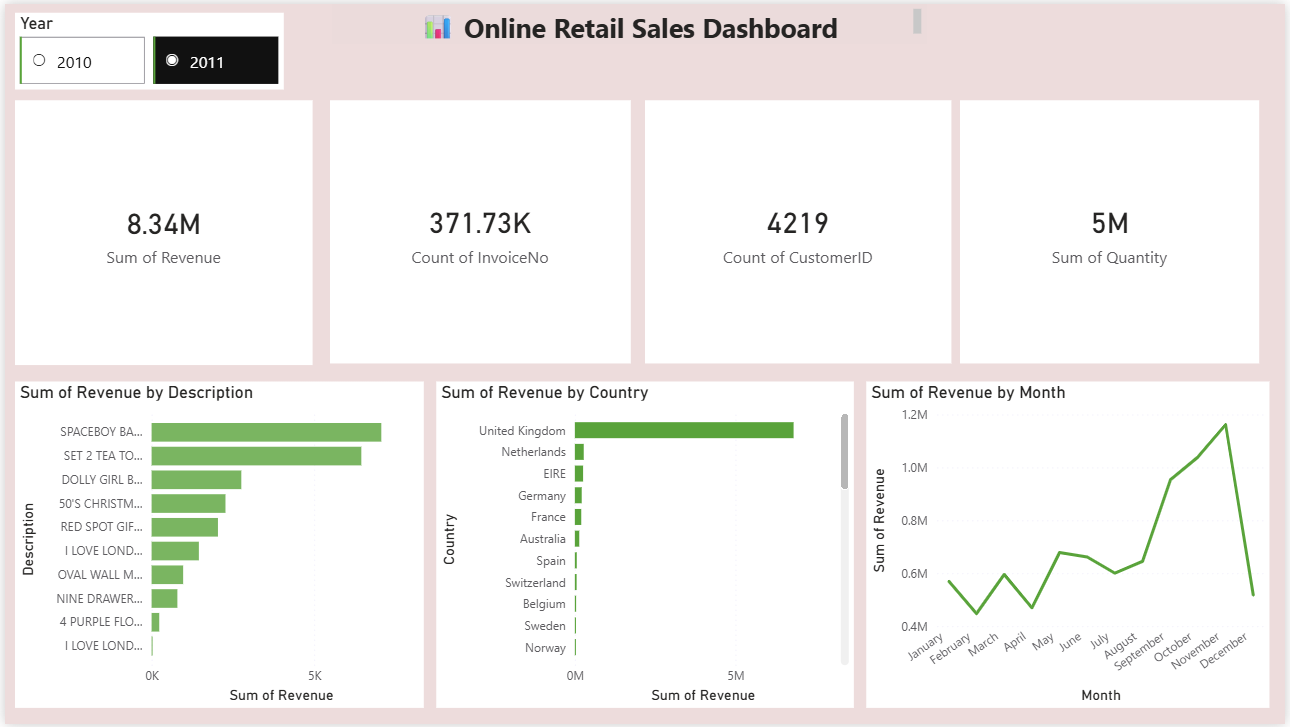

The page's visual inventory and layout, read from the dashboard file:
{"tool":"powerbi","page":{"name":"Page 1","canvas":[1280,720],"ordinal":0},"visuals":[{"type":"lineChart","fields":{"Y":["Sum(online_retail.Revenue)"],"Category":["online_retail.InvoiceDate.Variation.Date Hierarchy.Year","online_retail.InvoiceDate.Variation.Date Hierarchy.Month"]},"box":[861.1,377.8,403.3,326.7],"z":0},{"type":"card","fields":{"Values":["Sum(online_retail.Revenue)"]},"box":[9.6,96.1,297.8,264.8],"z":1000},{"type":"card","fields":{"Values":["CountNonNull(online_retail.InvoiceNo)"]},"box":[325.2,96.1,300.5,263.5],"z":2000},{"type":"card","fields":{"Values":["Count(online_retail.CustomerID)"]},"box":[639.5,96.1,306,263.5],"z":3000},{"type":"card","fields":{"Values":["Sum(online_retail.Quantity)"]},"box":[955.1,96.1,299.1,263.5],"z":4000},{"type":"barChart","fields":{"Category":["online_retail.Description"],"Y":["Sum(online_retail.Revenue)"]},"box":[10,377.8,408.9,326.7],"z":5000},{"type":"barChart","fields":{"Category":["online_retail.Country"],"Y":["Sum(online_retail.Revenue)"]},"box":[431.1,377.8,417.8,326.7],"z":6000},{"type":"textbox","box":[328,0,594.2,39.8],"z":7000},{"type":"advancedSlicerVisual","fields":{"Values":["online_retail.InvoiceDate.Variation.Date Hierarchy.Year"]},"box":[9.6,8.2,269,76.8],"z":8000}]}

Visuals, with their boxes in screenshot pixels (x1, y1, x2, y2), scaled from the page's 1280x720 canvas onto the 1290x727 screenshot:
lineChart - Sum(online_retail.Revenue) x online_retail.InvoiceDate.Variation.Date Hierarchy.Year: bbox=(868, 381, 1274, 711)
card - Sum(online_retail.Revenue): bbox=(10, 97, 310, 364)
card - CountNonNull(online_retail.InvoiceNo): bbox=(328, 97, 631, 363)
card - Count(online_retail.CustomerID): bbox=(644, 97, 953, 363)
card - Sum(online_retail.Quantity): bbox=(963, 97, 1264, 363)
barChart - online_retail.Description x Sum(online_retail.Revenue): bbox=(10, 381, 422, 711)
barChart - online_retail.Country x Sum(online_retail.Revenue): bbox=(434, 381, 856, 711)
textbox: bbox=(331, 0, 929, 40)
advancedSlicerVisual - online_retail.InvoiceDate.Variation.Date Hierarchy.Year: bbox=(10, 8, 281, 86)
